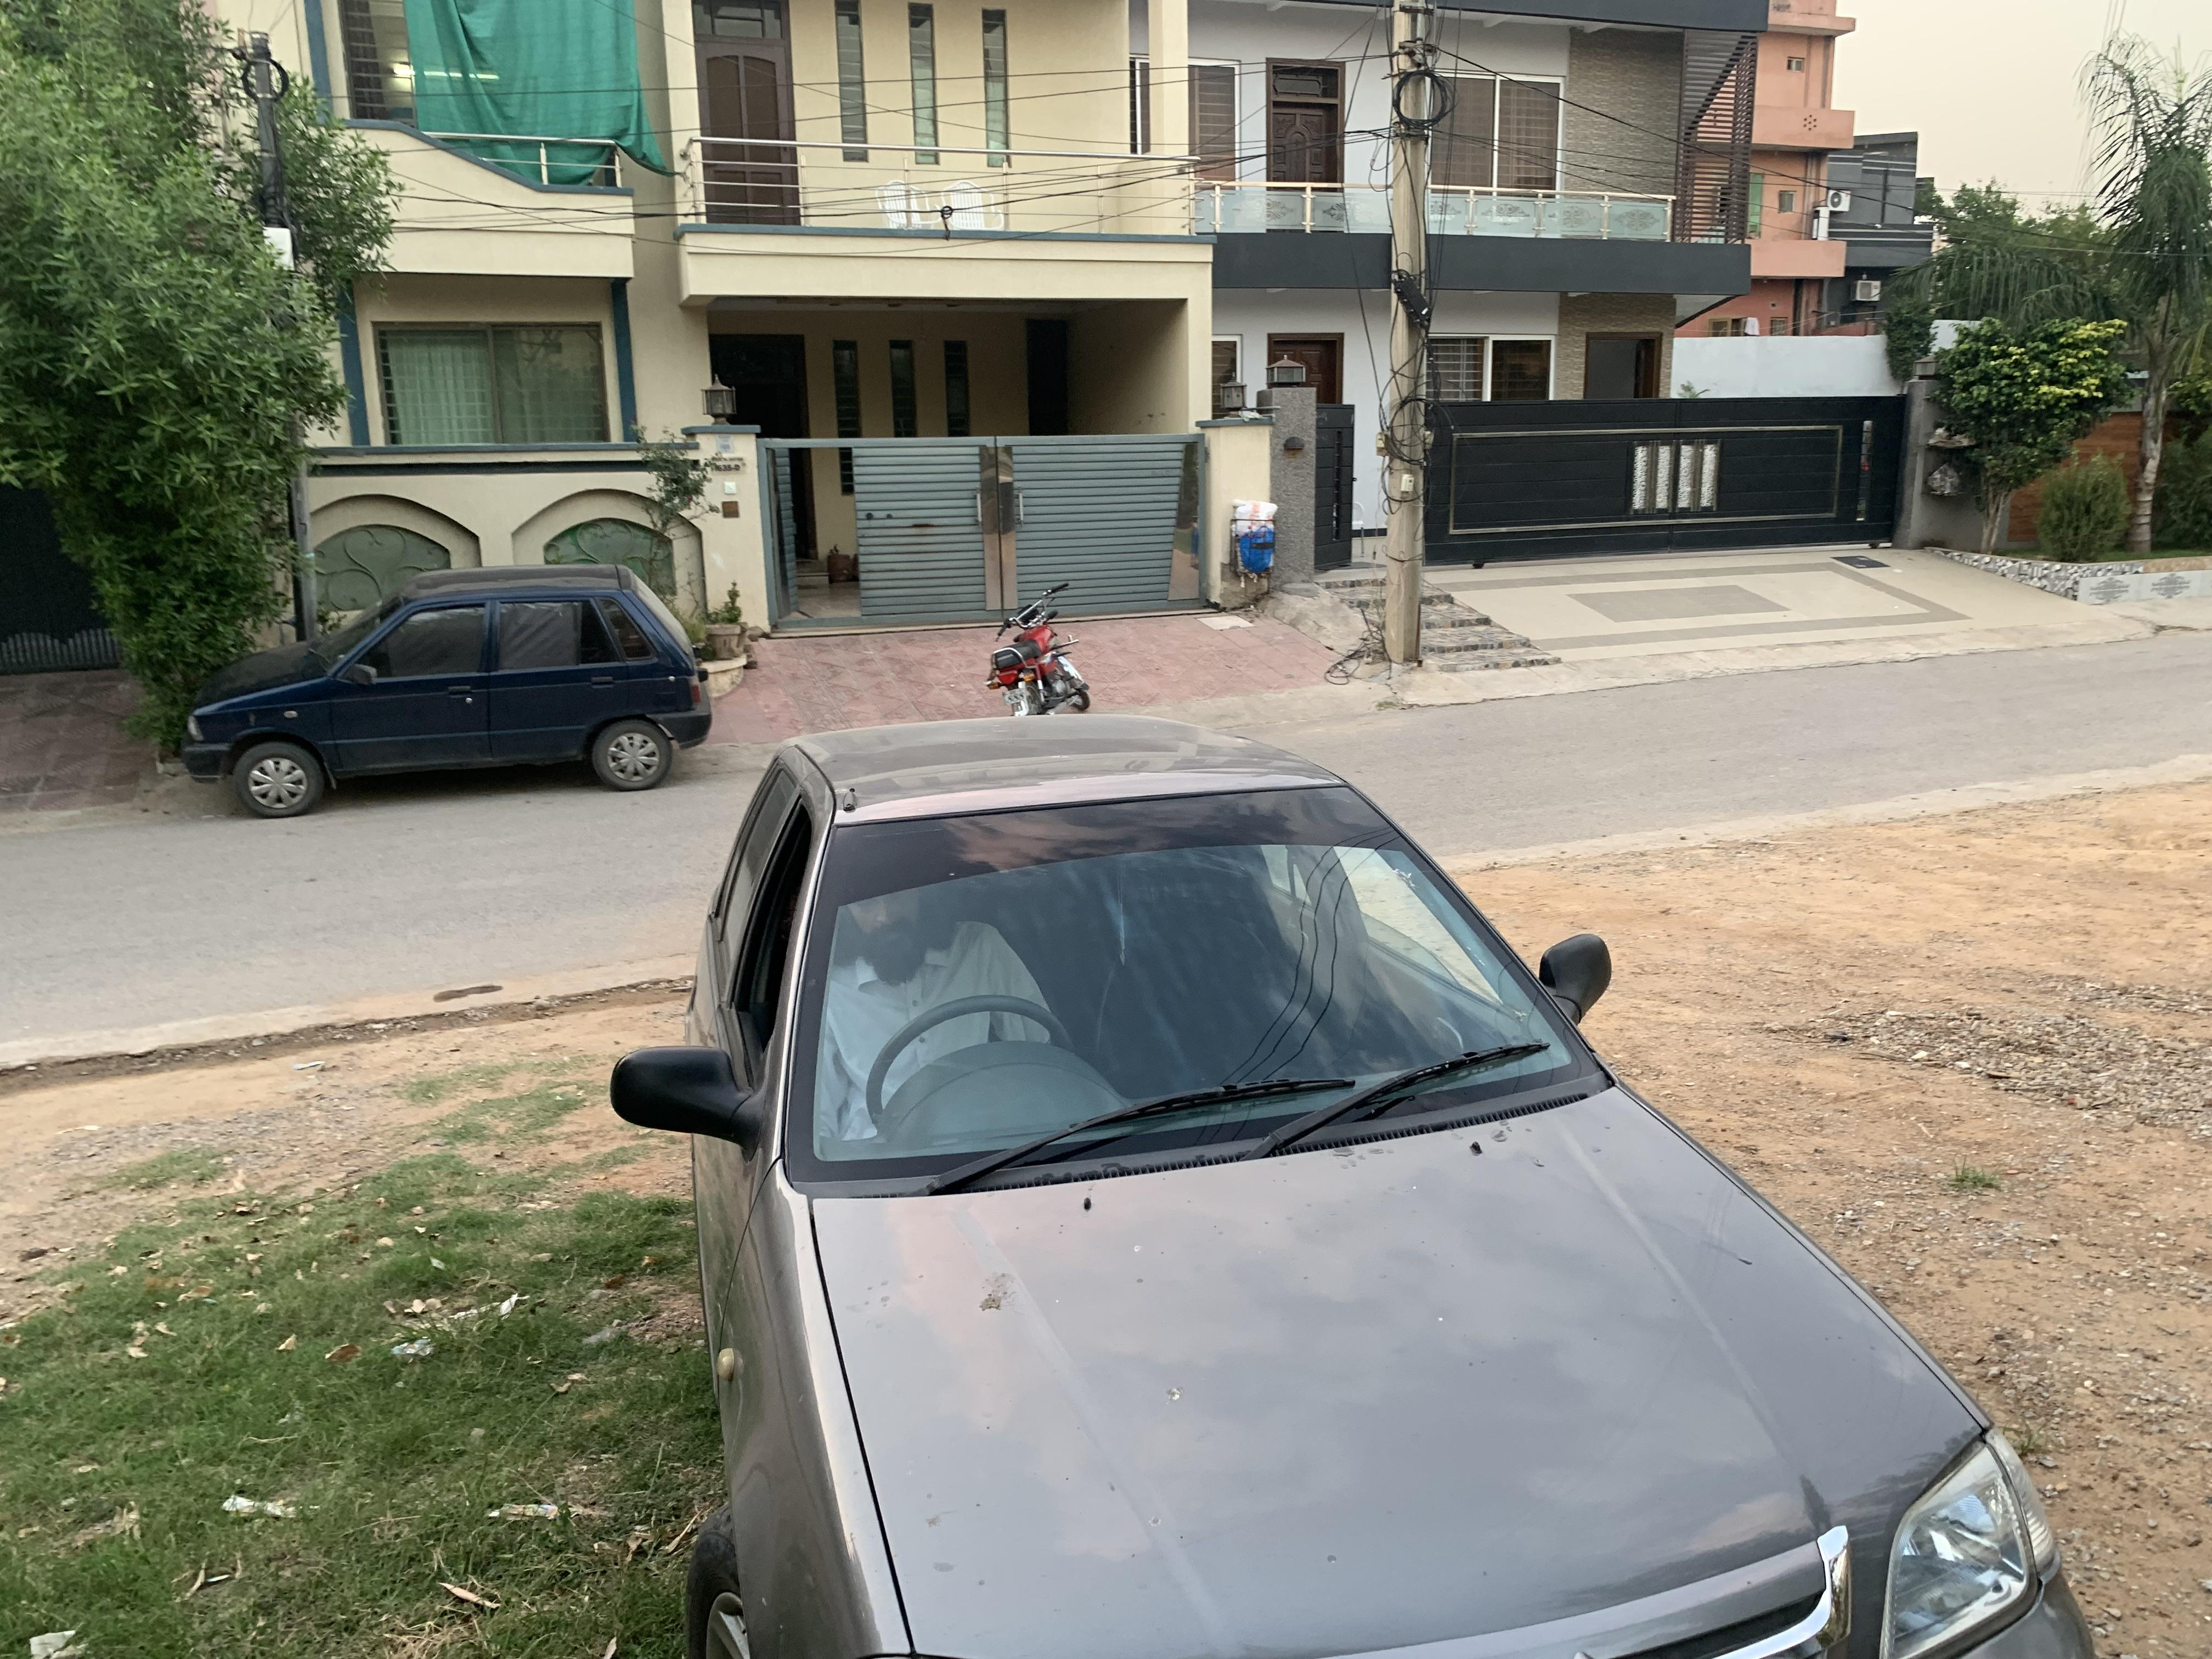windshield: (763, 756, 1663, 1256)
